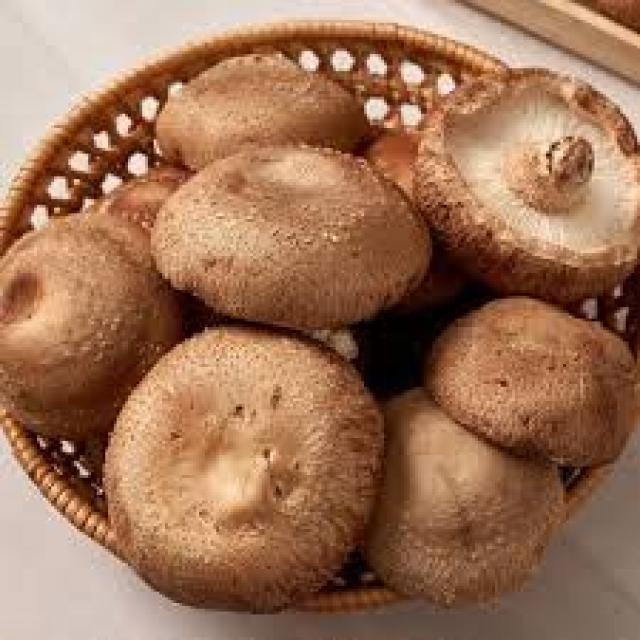Mushroom: (105, 327, 384, 613), (415, 68, 640, 303), (151, 145, 432, 330), (427, 299, 637, 468)
